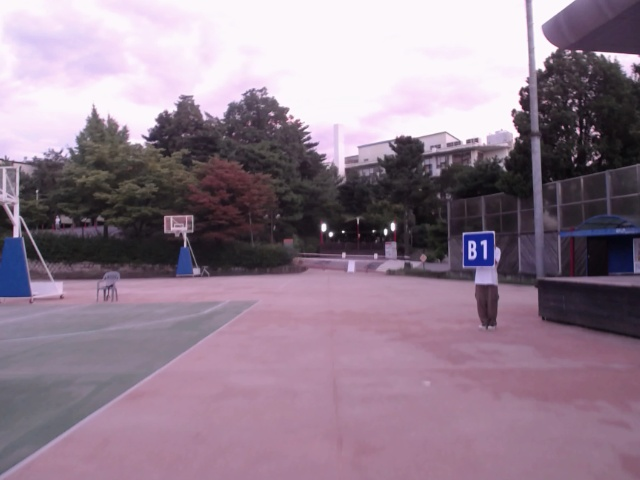delivery_b1: (463, 232, 495, 268)
